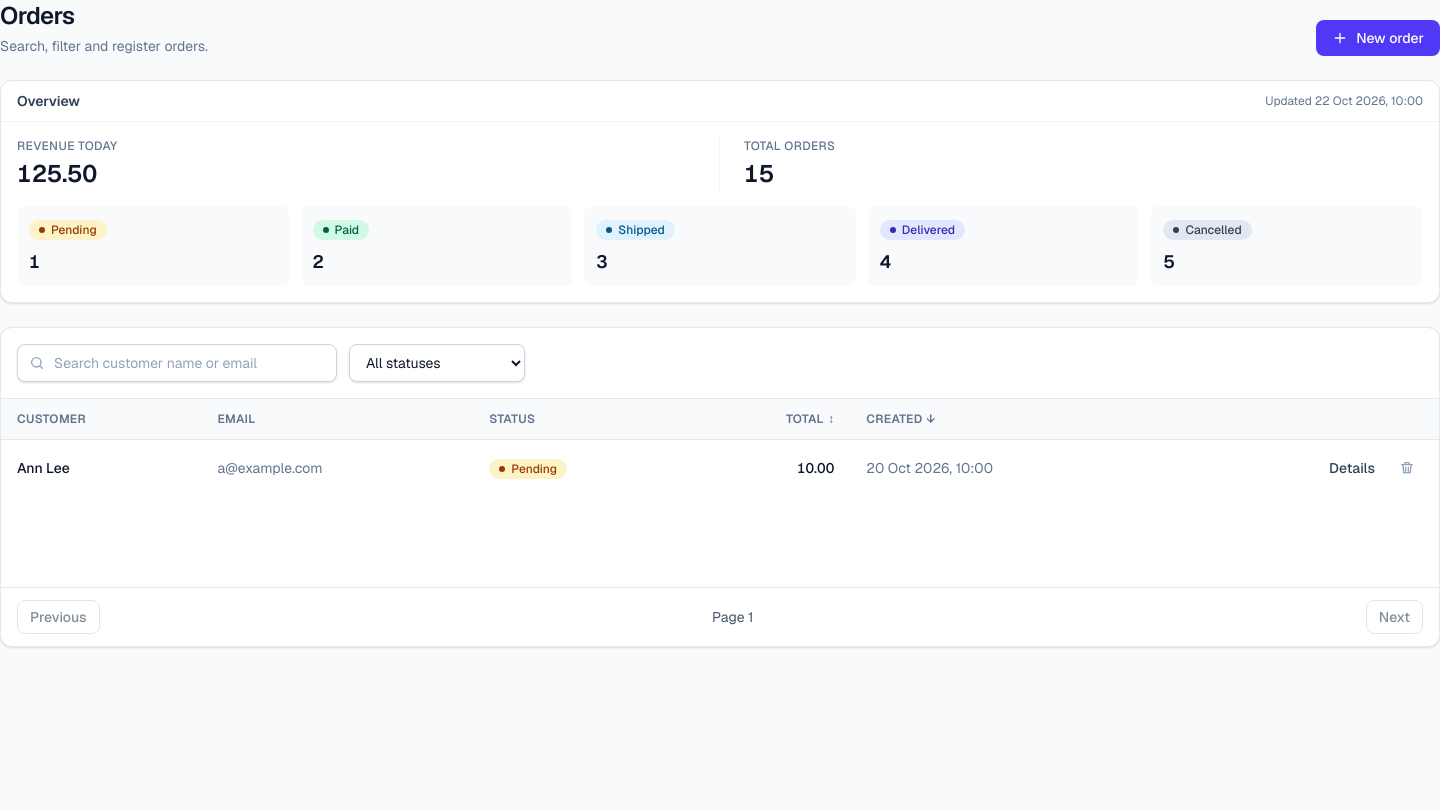
Test: OrdersView › delete order (admin only) › deletes the order, closes the dialog and reloads the list
This screenshot has width=1440, height=810.
Expected: the text "ann lee" is shown, [17,459,70,477]
Click the button named "Delete order for": (1407, 468) [1391,452,1423,484]
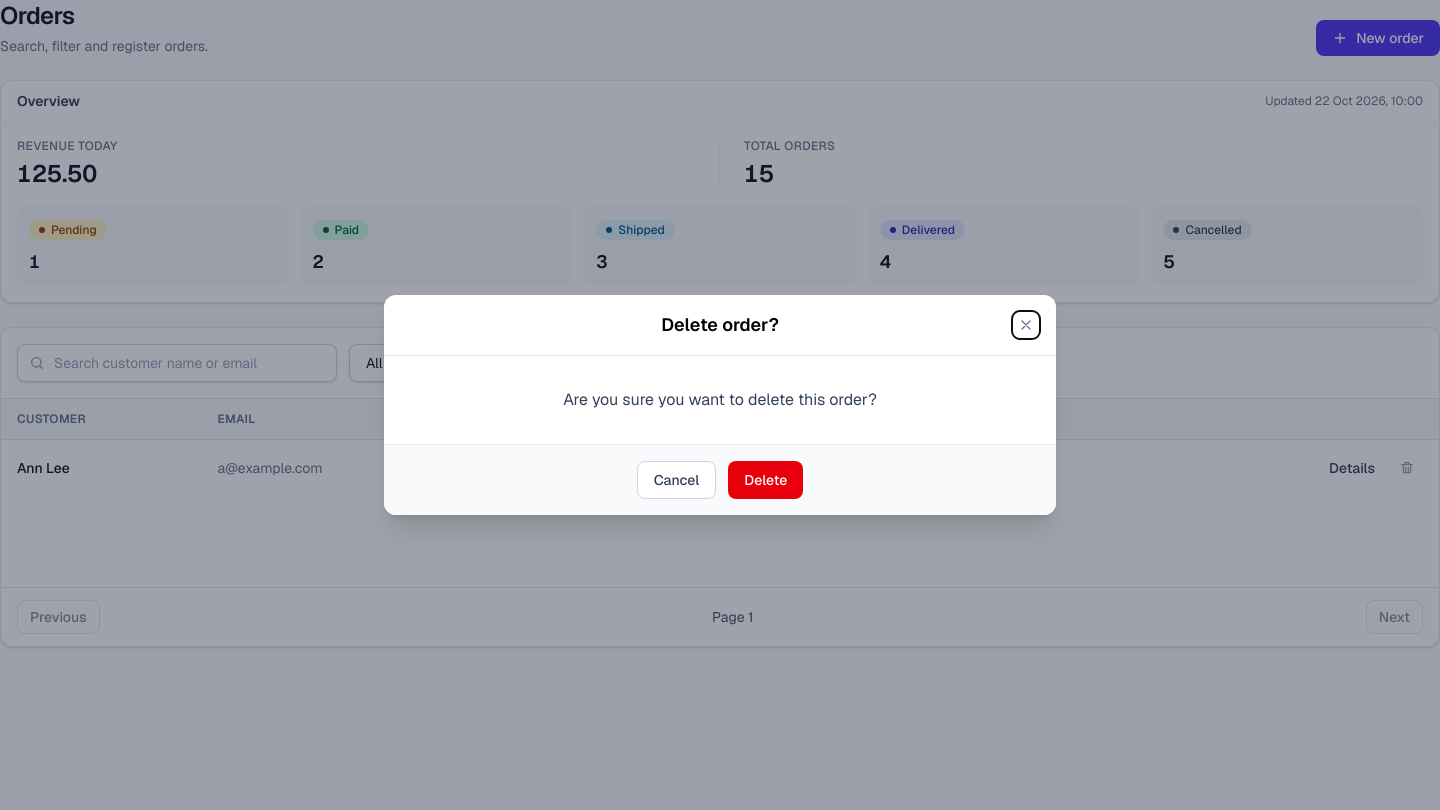
Click the button "Delete": (766, 480) [728,461,803,499]
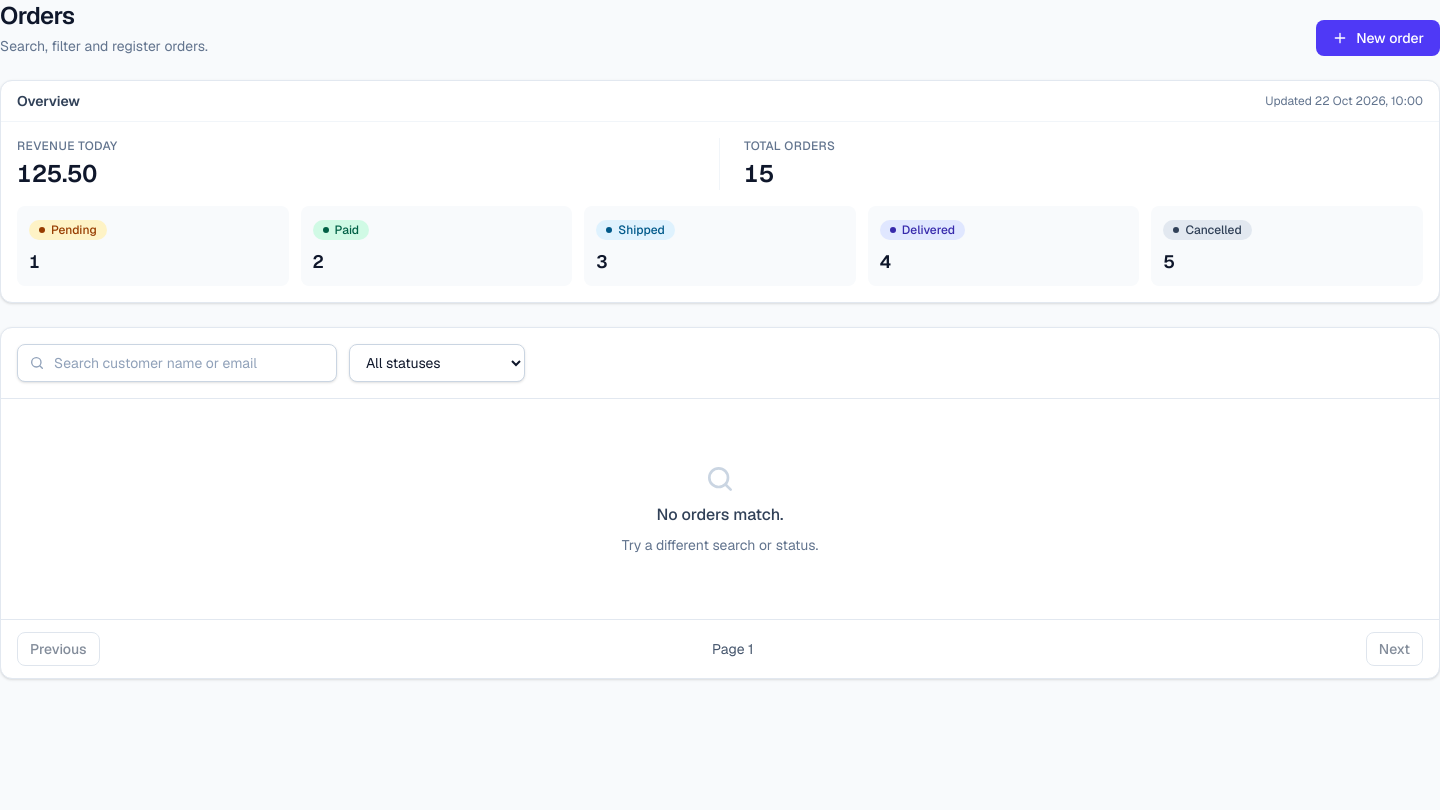
Expected: the text "No orders match." is shown, [656,503,784,527]
Expected: the dialog is gone
